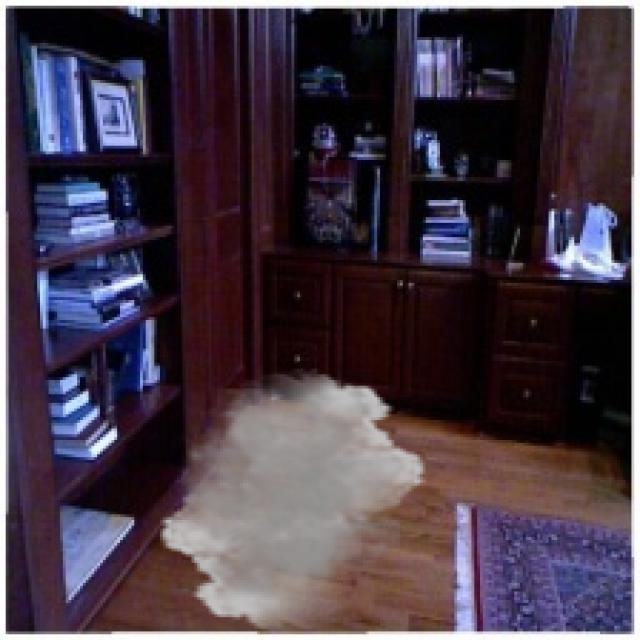smoke: (157, 369, 429, 634)
